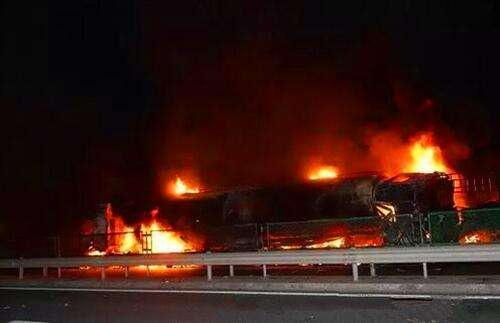fire: (109, 217, 190, 255), (396, 138, 452, 177), (170, 173, 203, 198), (283, 239, 351, 251), (308, 165, 340, 181)
